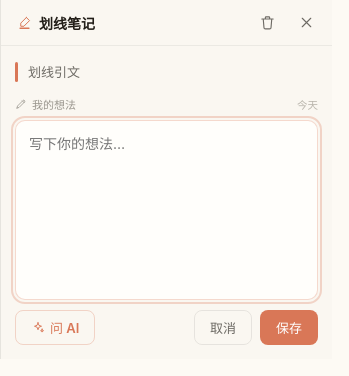
NotePanel › durable 保存未完成时禁用重复操作
Click the button "保存": (289, 328) [260,310,318,345]
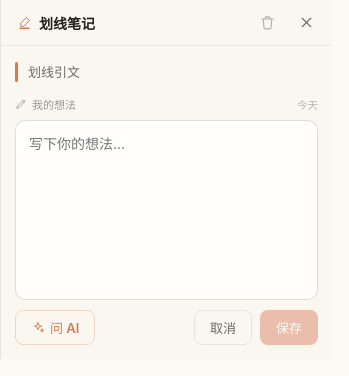
Check: the button "保存" is disabled
Click the button "保存": (289, 328) [260,310,318,345]
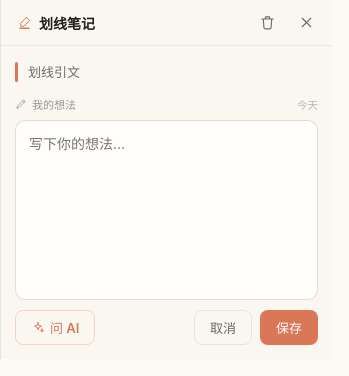
Check: the button "保存" is enabled, box [260,310,318,345]
